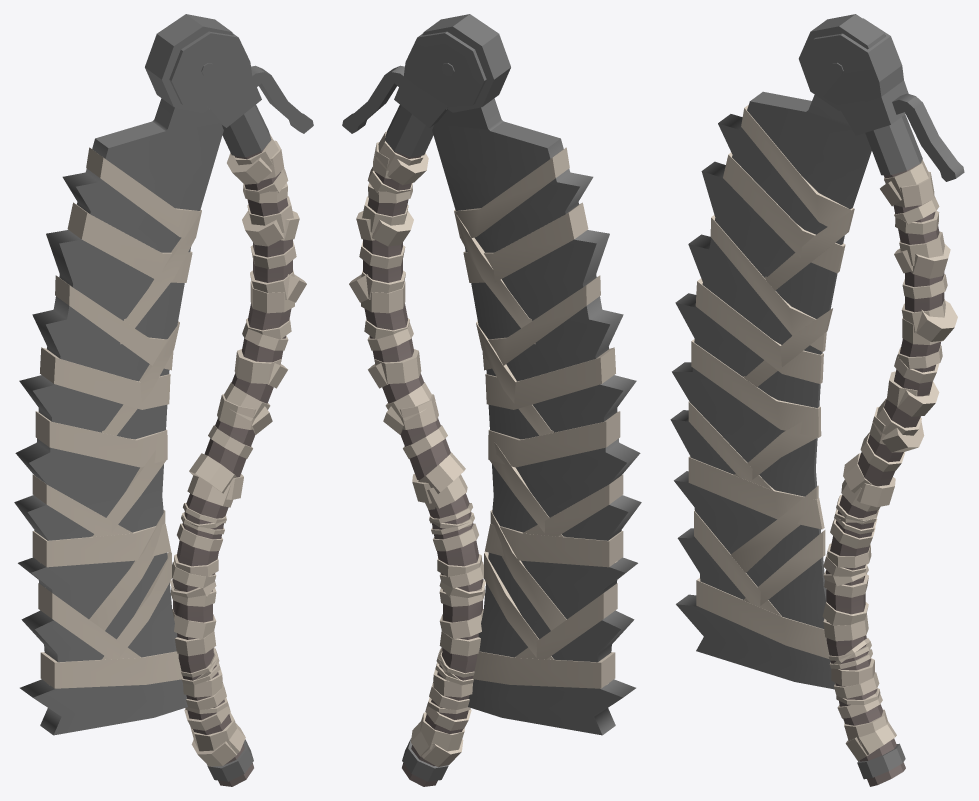
File: Saw Cleaver Retracted 1.fbx
3 views of the same model, side by side, from view 1: azimuth 30°, elevation 25°; view 2: azimuth 150°, elevation 25°; view 3: azimuth 330°, elevation 25° (orthographic).
Parts seen in each view (by area): view 1: pCylinder146; view 2: pCylinder146; view 3: pCylinder146.
Boxes of the visible parts, x1=… form: pCylinder146: x1=14, y1=14, x2=313, y2=786; pCylinder146: x1=342, y1=14, x2=641, y2=786; pCylinder146: x1=670, y1=14, x2=964, y2=786.
Size of the model in its own units: 7.91 by 20.19 by 1.17.
